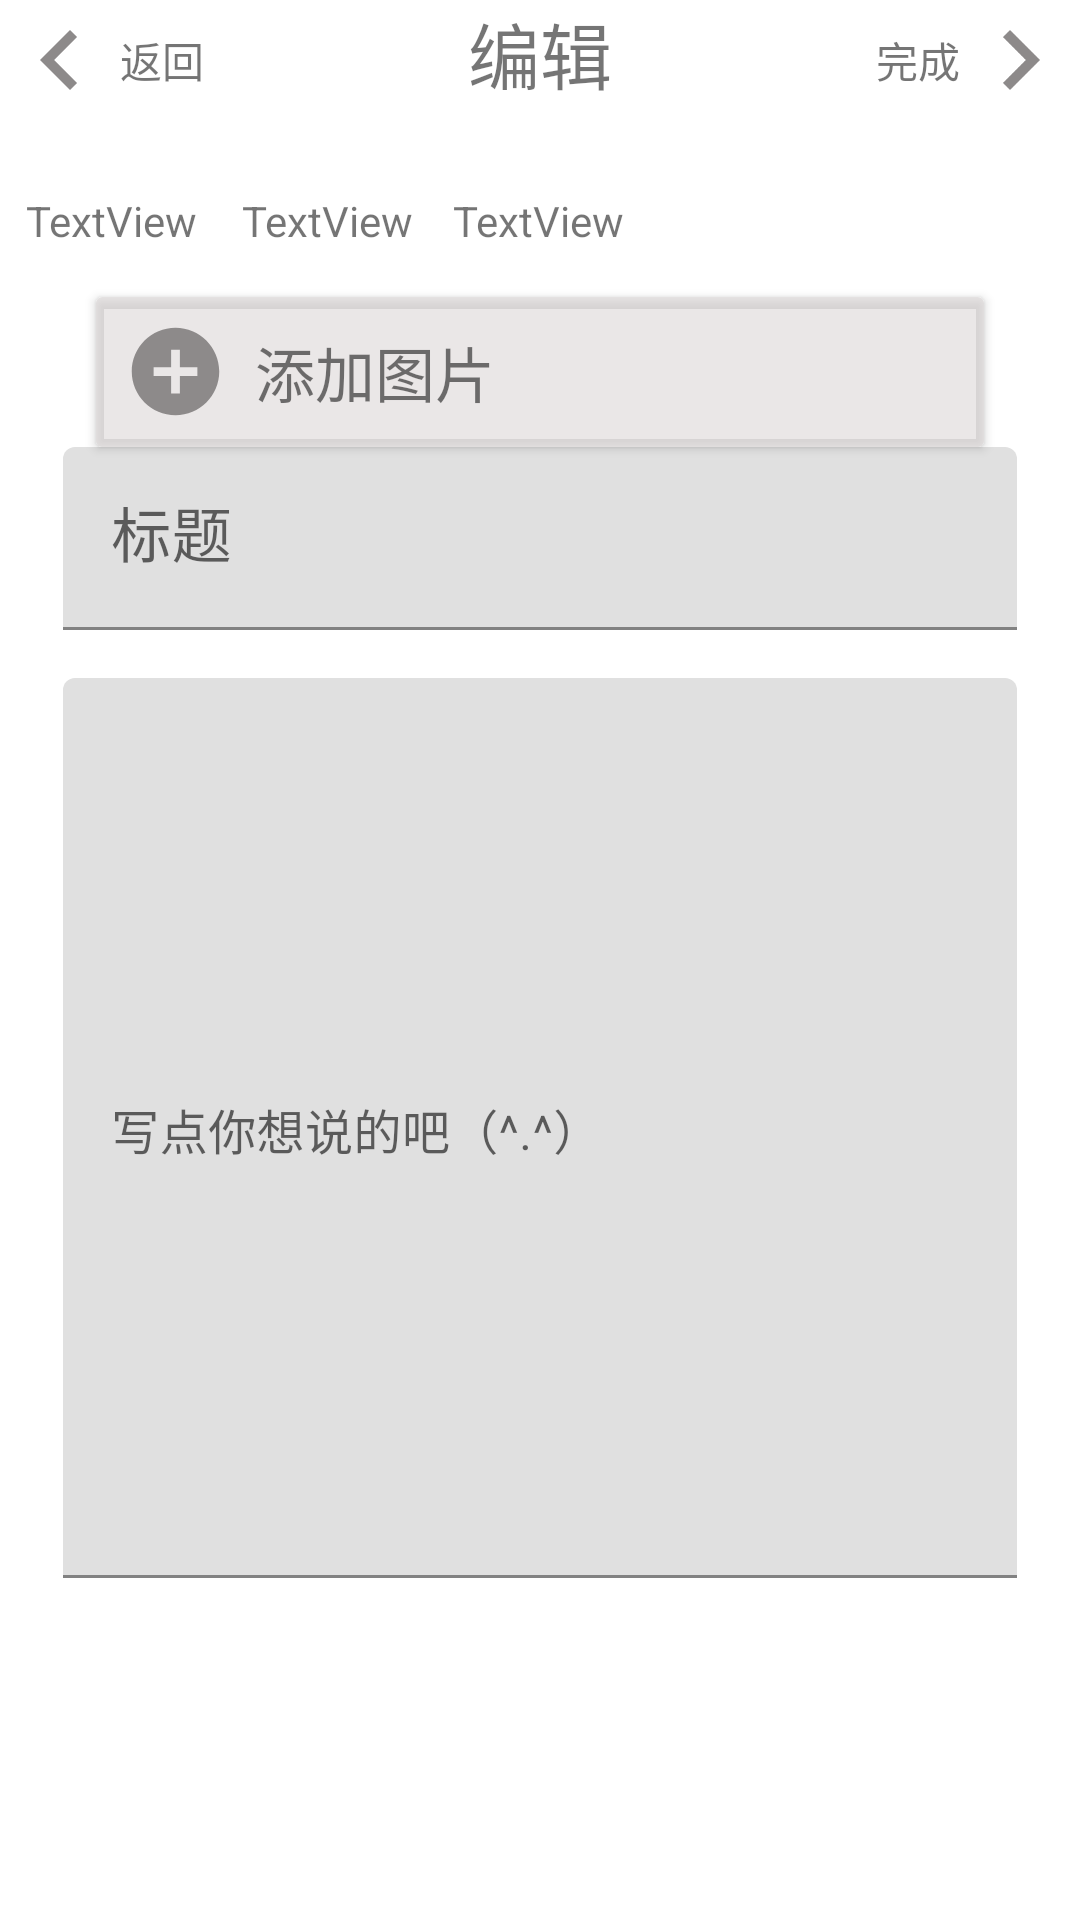

Where icons sit on this 1080w x 1920h app screen, as (x1, y1, x2, y2):
add circle: (132, 328, 219, 415)
chevron left: (40, 30, 77, 90)
chevron right: (1003, 30, 1040, 90)
